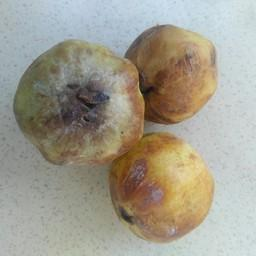Bad_guava: (13, 40, 145, 163), (105, 132, 217, 245), (123, 21, 219, 122)
